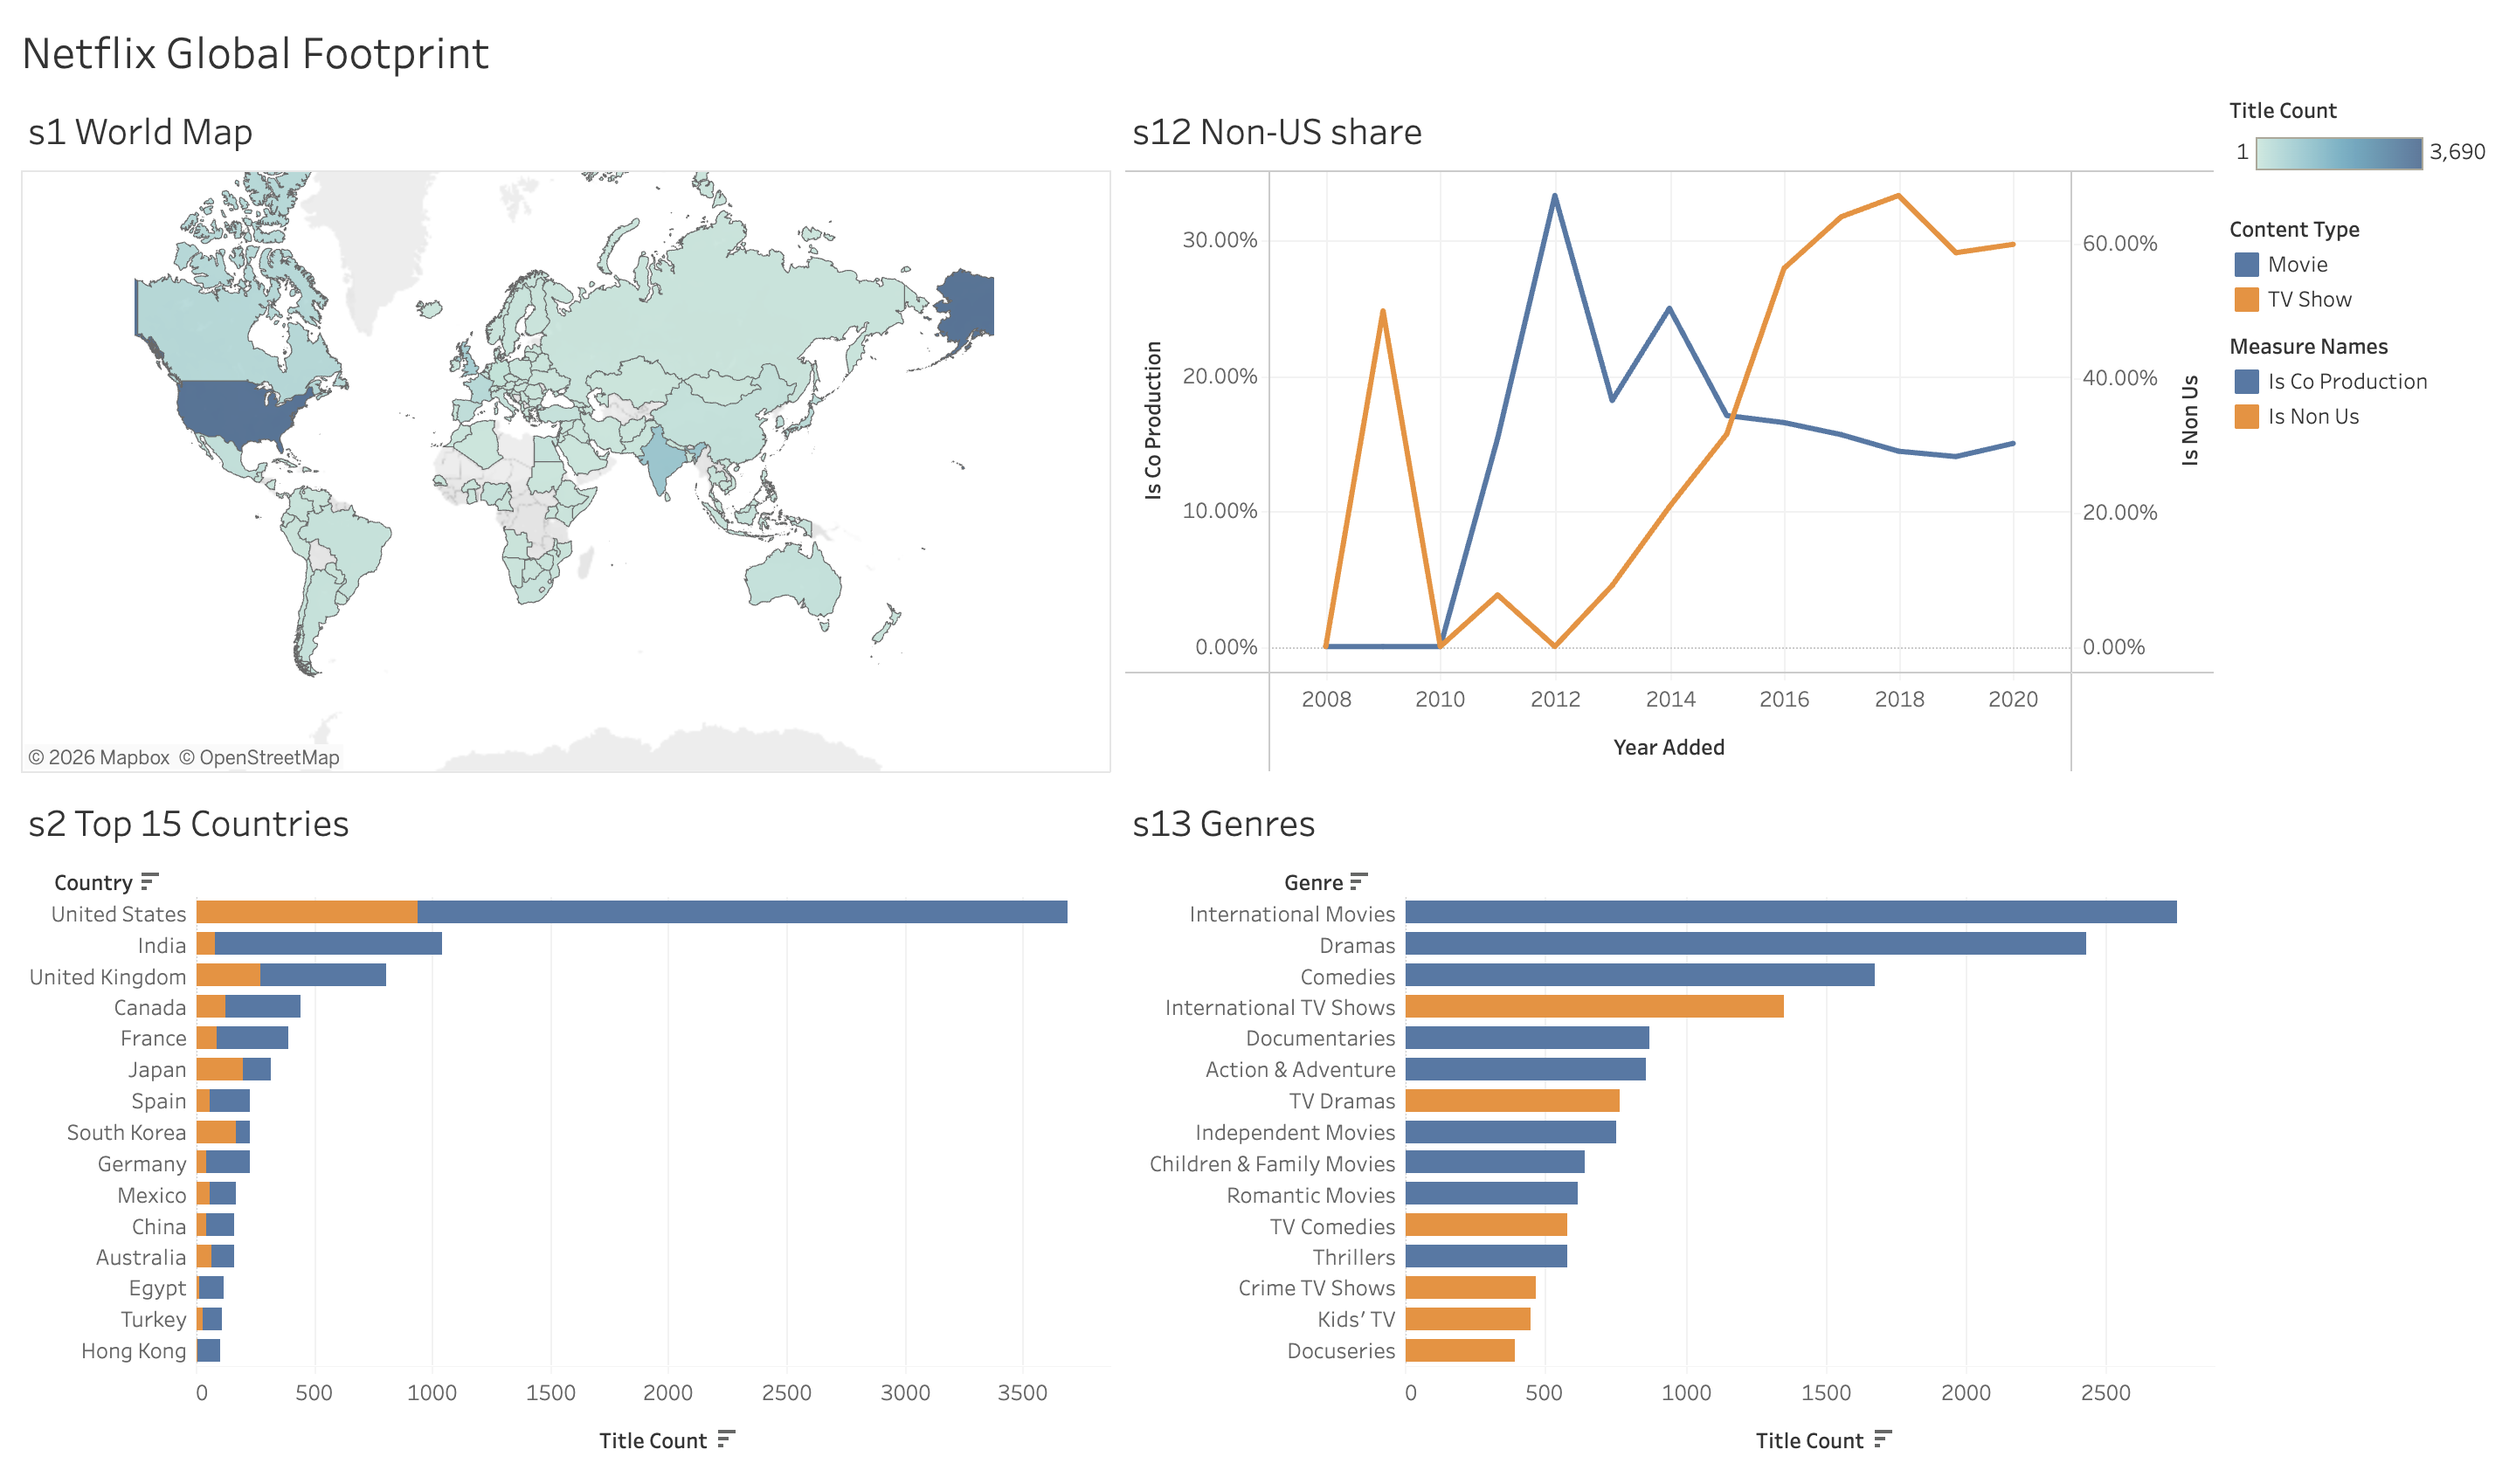

This screenshot's page, from the dashboard's own definition file:
{"tool":"tableau","page":{"name":"d2 Global Footprint","canvas":[1000,1000],"units":"permille","ordinal":1},"visuals":[{"type":"title","box":[6.5,10.7,987,56]},{"type":"worksheet","title":"s1 World Map","mark":"Multipolygon","box":[6.5,66.7,428.4,461.3]},{"type":"worksheet","title":"s12 Non-US share","mark":"Automatic","rows":["is_co_production","is_non_us"],"cols":["year_added"],"box":[434.9,66.7,428.4,461.3]},{"type":"legend","title":"s1 World Map","param":"[federated.0k6jwxn1j7t0m419majvu192irrx].[sum:title_count:qk]","box":[863.3,66.7,130.2,86.7]},{"type":"legend","title":"s2 Top 15 Countries","param":"[federated.0k6jwxn1j7t0m419majvu192irrx].[none:content_type:nk]","box":[863.3,153.3,130.2,88]},{"type":"legend","title":"s12 Non-US share","param":"[federated.0k6jwxn1j7t0m419majvu192irrx].[:Measure Names]","box":[863.3,241.3,130.2,88]},{"type":"worksheet","title":"s2 Top 15 Countries","mark":"Automatic","rows":["country"],"cols":["title_count"],"box":[6.5,528,428.4,461.3]},{"type":"worksheet","title":"s13 Genres","mark":"Automatic","rows":["genre"],"cols":["title_count"],"box":[434.9,528,428.4,461.3]}]}

Visuals, with their boxes on the dashboard's canvas, which has no fixed pixel size, in thousandths of its width and height (x1, y1, x2, y2). These are canvas units, not pixel positions in the 2516x1484 screenshot, which may show the page scaled, cropped or inside an application window:
title: box(6, 11, 994, 67)
"s1 World Map" worksheet (Multipolygon marks): box(6, 67, 435, 528)
"s12 Non-US share" worksheet: box(435, 67, 863, 528)
"s1 World Map" legend: box(863, 67, 994, 153)
"s2 Top 15 Countries" legend: box(863, 153, 994, 241)
"s12 Non-US share" legend: box(863, 241, 994, 329)
"s2 Top 15 Countries" worksheet: box(6, 528, 435, 989)
"s13 Genres" worksheet: box(435, 528, 863, 989)
